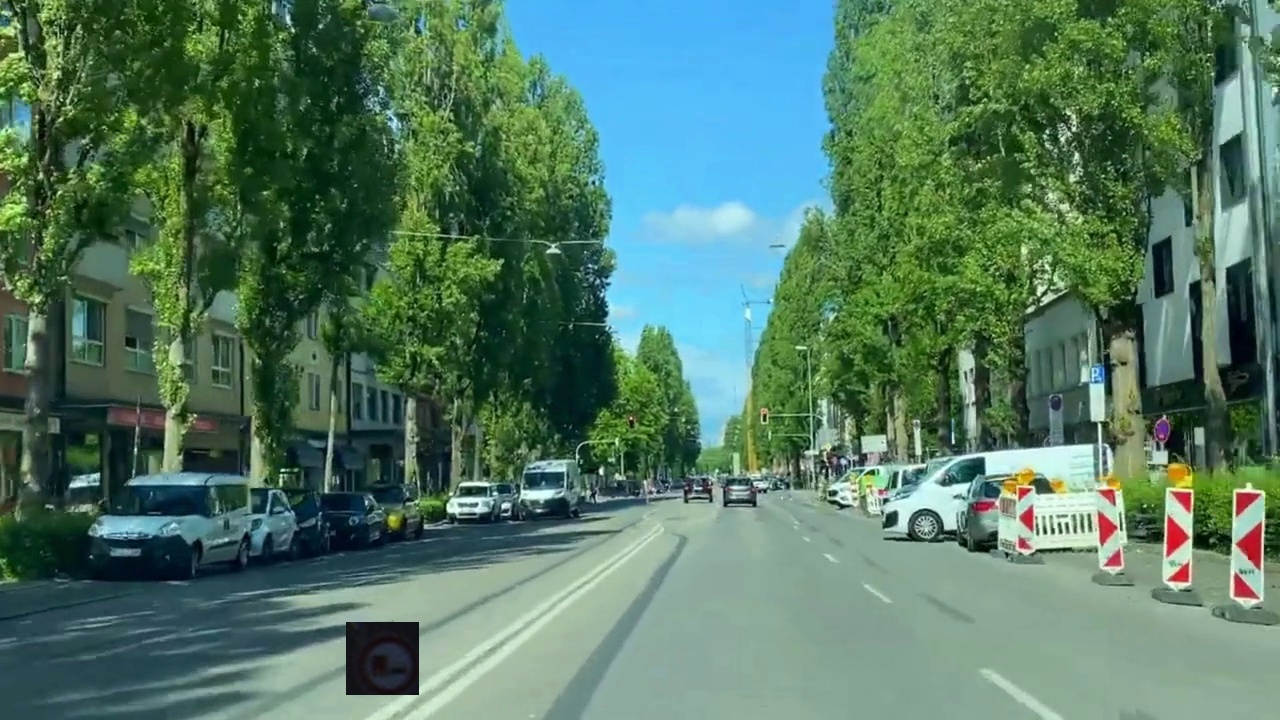No pass >3.5t: (346, 622, 419, 695)
